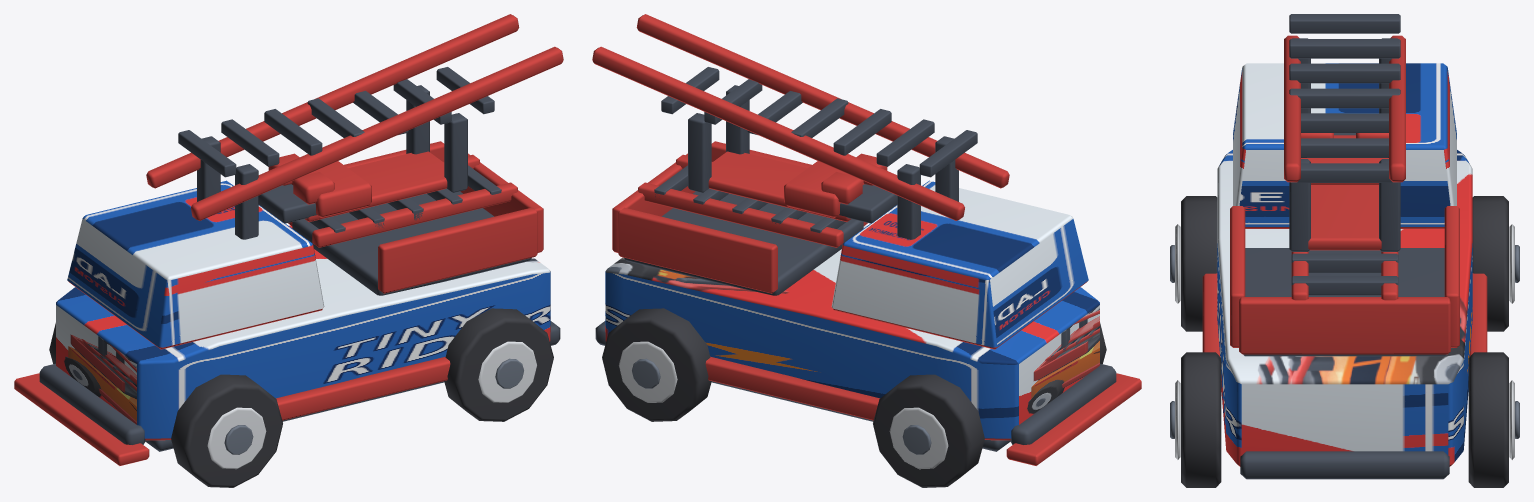
3 views of the same model, side by side, from view 1: azimuth 30°, elevation 25°; view 2: azimuth 150°, elevation 25°; view 3: azimuth 270°, elevation 25° (orthographic). The views are drawn at different scales.
Parts seen in each view (by area): view 1: RC-03_connected_shell, RC-03_cabin, cargo side, long elevated ladder rail, Tire, Tire.002, long elevated ladder rail.001, cargo floor, custom side guard, raised ladder extension, folded ladder rail, custom chin (+21 smaller); view 2: RC-03_connected_shell, RC-03_cabin, cargo side.001, long elevated ladder rail.001, Tire.001, Tire.003, long elevated ladder rail, cargo floor, custom side guard.001, raised ladder extension, folded ladder rail.001, custom chin (+21 smaller); view 3: RC-03_connected_shell, RC-03_cabin, cargo tail, rear bumper, cargo floor, Tire.002, Tire.003, raised ladder extension, Tire, Tire.001, elevated ladder rung.002, elevated ladder rung (+22 smaller).
Boxes of the visible parts, x1,y1,x2,y2 form: RC-03_connected_shell: (56, 225, 550, 440); RC-03_cabin: (67, 180, 324, 349); cargo side: (378, 207, 537, 293); long elevated ladder rail: (191, 46, 563, 220); Tire: (171, 374, 282, 487); Tire.002: (444, 308, 553, 421); long elevated ladder rail.001: (146, 14, 519, 188); cargo floor: (292, 191, 531, 295); custom side guard: (276, 356, 450, 420); raised ladder extension: (305, 151, 447, 221); folded ladder rail: (312, 182, 517, 247); custom chin: (14, 373, 149, 465); RC-03_connected_shell: (605, 225, 1099, 440); RC-03_cabin: (831, 180, 1088, 349); cargo side.001: (618, 207, 777, 293); long elevated ladder rail.001: (592, 46, 964, 220); Tire.001: (873, 374, 984, 487); Tire.003: (602, 308, 711, 421); long elevated ladder rail: (636, 14, 1009, 188); cargo floor: (624, 191, 863, 295); custom side guard.001: (705, 356, 879, 420); raised ladder extension: (708, 151, 850, 221); folded ladder rail.001: (638, 182, 843, 247); custom chin: (1006, 373, 1141, 465); RC-03_connected_shell: (1217, 150, 1472, 466); RC-03_cabin: (1233, 63, 1456, 228); cargo tail: (1239, 297, 1450, 354); rear bumper: (1240, 451, 1449, 479); cargo floor: (1243, 248, 1446, 356); Tire.002: (1181, 352, 1221, 487); Tire.003: (1468, 352, 1508, 487); raised ladder extension: (1308, 185, 1381, 250); Tire: (1181, 196, 1217, 331); Tire.001: (1472, 196, 1508, 331); elevated ladder rung.002: (1289, 63, 1400, 83); elevated ladder rung: (1289, 14, 1400, 33).
Size of the model in its own units: 418 by 267 by 226.
